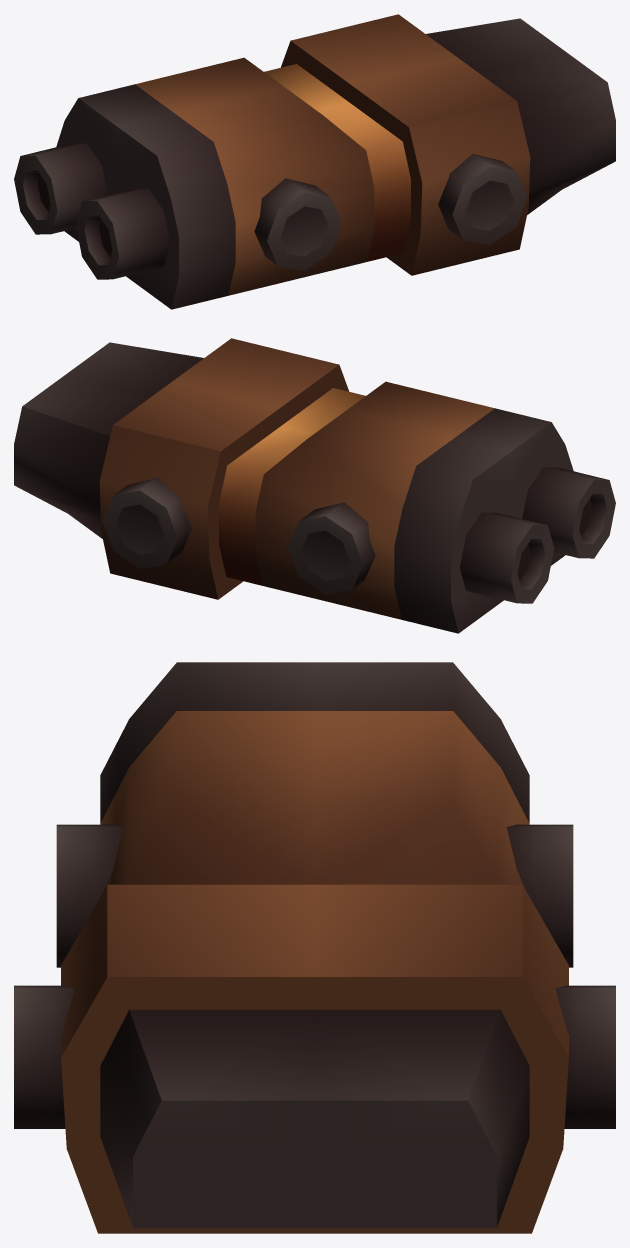
File: ma014_Weapon.FBX
3 views of the same model, one above another, from view 1: azimuth 30°, elevation 25°; view 2: azimuth 150°, elevation 25°; view 3: azimuth 270°, elevation 25° (orthographic). The views are drawn at different scales.
Visible parts, largest first — view 1: ma014_Weapon; view 2: ma014_Weapon; view 3: ma014_Weapon.
Boxes of the visible parts, x1,y1,x2,y2 form: ma014_Weapon: [14, 14, 615, 309]; ma014_Weapon: [14, 338, 615, 633]; ma014_Weapon: [14, 662, 615, 1233].
Size of the model in its own units: 45.54 by 14.01 by 27.25.
